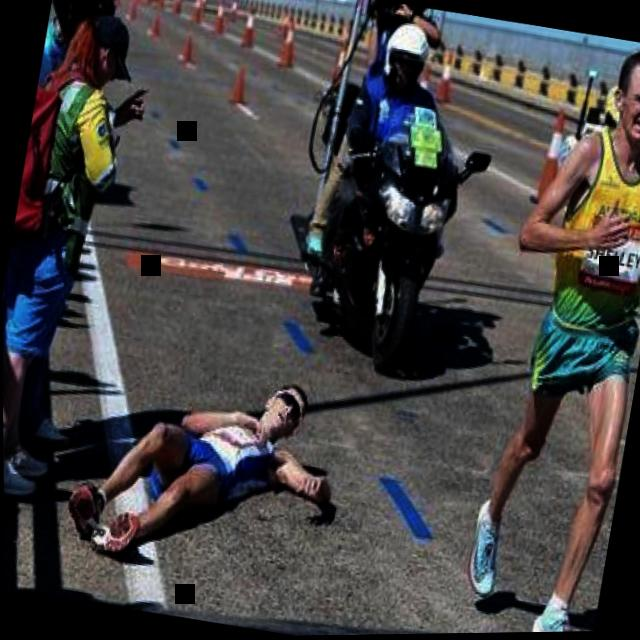Fall-Detected: (40, 314, 364, 599)
